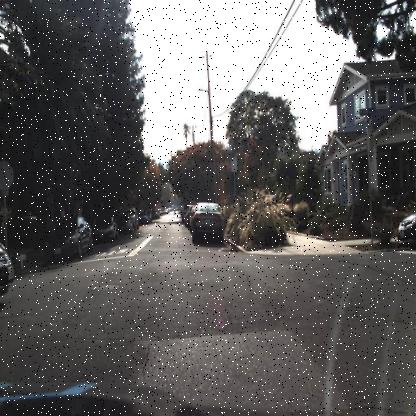car: (44, 216, 92, 264), (392, 195, 416, 259), (0, 235, 15, 296), (90, 213, 117, 244), (397, 206, 415, 250), (117, 210, 133, 234), (129, 208, 139, 232)
